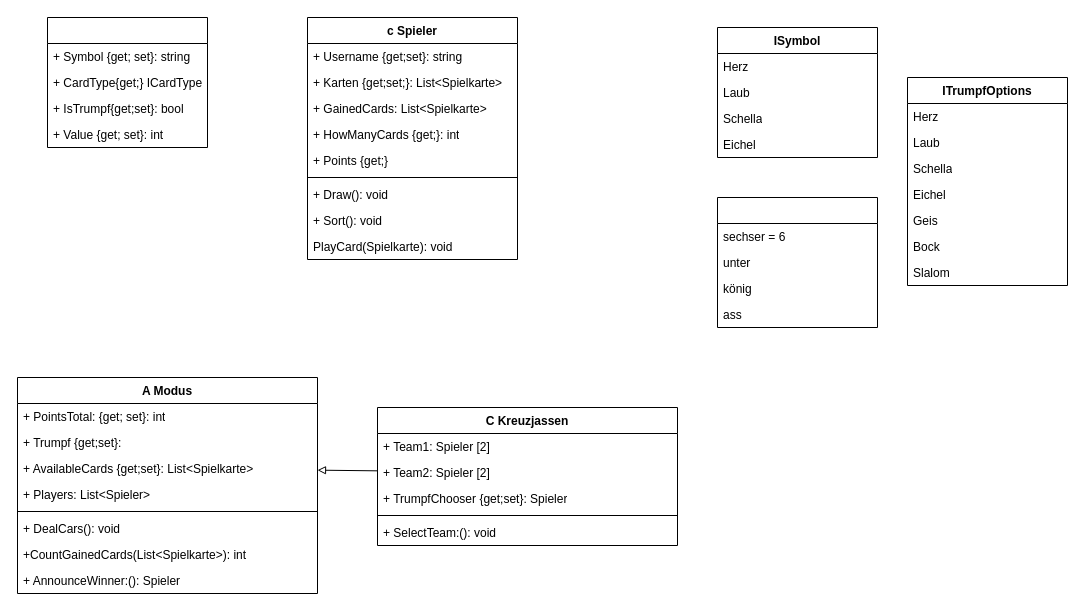
Image size: 1085x614. Some labels were removed from this diagram. Here are the shapes that lost their labels. From the top down, the box of each, then its label:
(46, 16, 208, 148): c Spielkarte
(716, 196, 878, 328): ICardType
